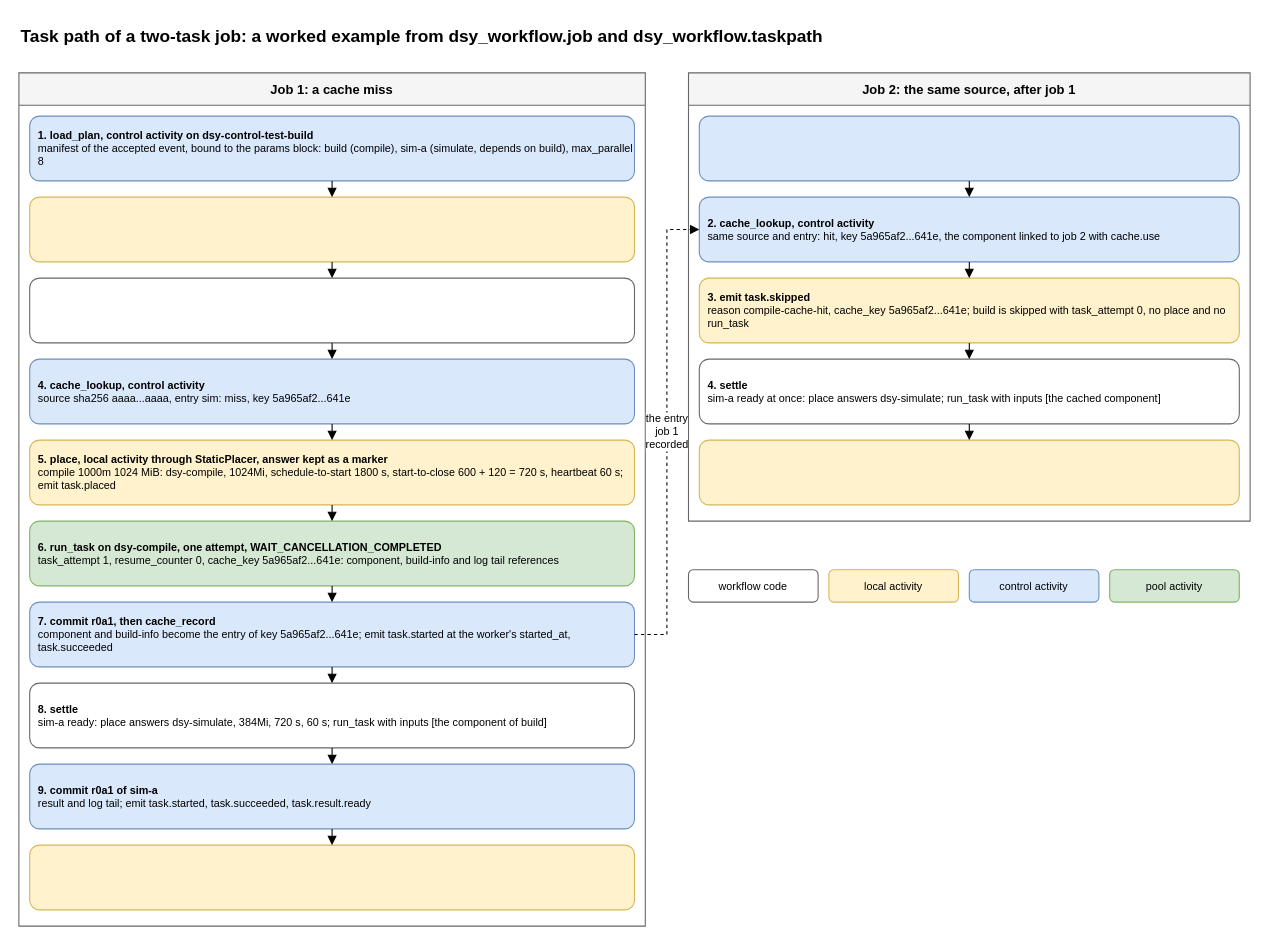
The diagram is 1269 pixels wide and 945 high, and some of its shapes have lost their labels. The shapes that lost their labels are listed below. From the top down, each one's centre as x and y in pixels, then its label:
At pixel 968 148: "1. load_plan and job.started, as job 1".
At pixel 331 229: "2. emit, local activity job.started, row admitted to running".
At pixel 331 310: "3. ready loop ready [build], 0 of 8 running, so build starts".
At pixel 968 472: "5. outcome succeeded emit job.succeeded".
At pixel 331 877: "10. outcome succeeded emit job.succeeded, row running to succeeded".
